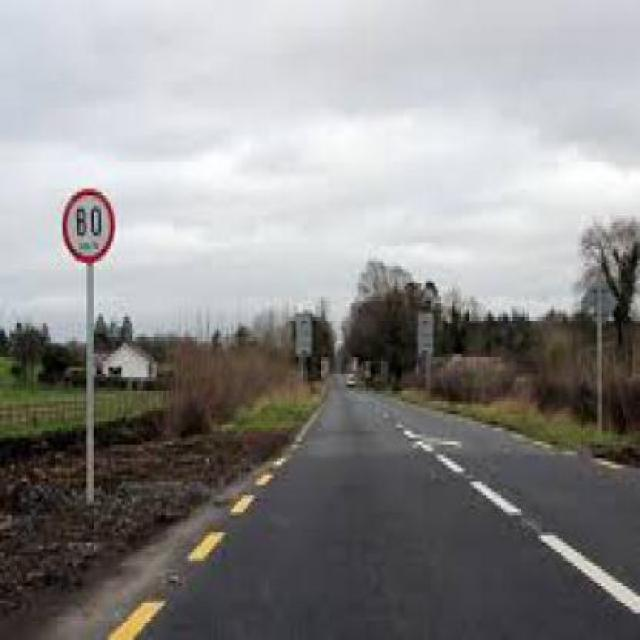Ograniczenie predkosci do 80: (60, 185, 115, 266)
